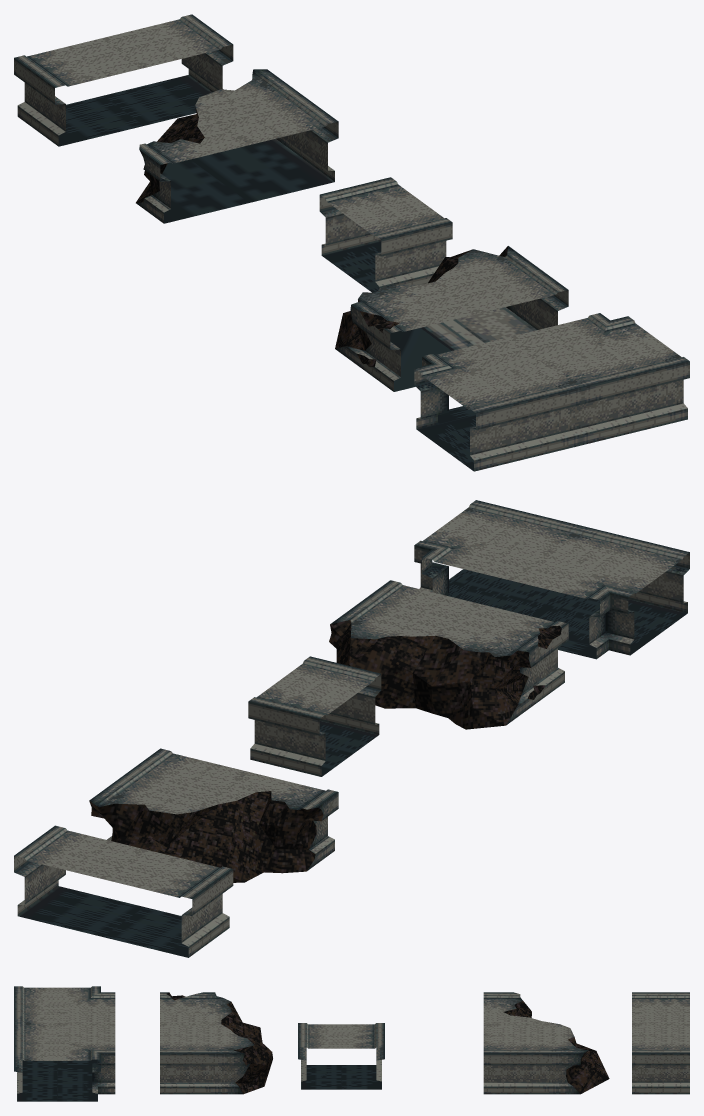
File: EnvMdrMD_Daiseidou_B_Hari_A_JointT_A.FBX
3 renders of one model, top to bottom at view 1: azimuth 30°, elevation 25°; view 2: azimuth 150°, elevation 25°; view 3: azimuth 270°, elevation 25°, orthographic. The views are drawn at different scales.
Parts seen in each view (by area): view 1: EnvMdrMD_Daiseidou_B_Hari_A_JointT_A, EnvMdrMD_Daiseidou_B_Hari_A_Loop_450W_Debris_B, EnvMdrMD_Daiseidou_B_Hari_A_Loop_450W_Debris_A, EnvMdrMD_Daiseidou_B_Hari_A_Loop_450W, EnvMdrMD_Daiseidou_B_Hari_A_Loop_200W; view 2: EnvMdrMD_Daiseidou_B_Hari_A_JointT_A, EnvMdrMD_Daiseidou_B_Hari_A_Loop_450W_Debris_A, EnvMdrMD_Daiseidou_B_Hari_A_Loop_450W_Debris_B, EnvMdrMD_Daiseidou_B_Hari_A_Loop_450W, EnvMdrMD_Daiseidou_B_Hari_A_Loop_200W; view 3: EnvMdrMD_Daiseidou_B_Hari_A_JointT_A, EnvMdrMD_Daiseidou_B_Hari_A_Loop_450W_Debris_A, EnvMdrMD_Daiseidou_B_Hari_A_Loop_450W_Debris_B, EnvMdrMD_Daiseidou_B_Hari_A_Loop_450W, EnvMdrMD_Daiseidou_B_Hari_A_Loop_200W.
Part boxes in pixels (left/top/right/bottom): EnvMdrMD_Daiseidou_B_Hari_A_JointT_A: left=414, top=313, right=689, bottom=471; EnvMdrMD_Daiseidou_B_Hari_A_Loop_450W_Debris_B: left=136, top=69, right=338, bottom=223; EnvMdrMD_Daiseidou_B_Hari_A_Loop_450W_Debris_A: left=335, top=246, right=568, bottom=391; EnvMdrMD_Daiseidou_B_Hari_A_Loop_450W: left=14, top=14, right=233, bottom=146; EnvMdrMD_Daiseidou_B_Hari_A_Loop_200W: left=319, top=177, right=452, bottom=292; EnvMdrMD_Daiseidou_B_Hari_A_JointT_A: left=414, top=500, right=689, bottom=659; EnvMdrMD_Daiseidou_B_Hari_A_Loop_450W_Debris_A: left=329, top=580, right=568, bottom=729; EnvMdrMD_Daiseidou_B_Hari_A_Loop_450W_Debris_B: left=89, top=748, right=338, bottom=882; EnvMdrMD_Daiseidou_B_Hari_A_Loop_450W: left=14, top=825, right=233, bottom=957; EnvMdrMD_Daiseidou_B_Hari_A_Loop_200W: left=248, top=656, right=381, bottom=776; EnvMdrMD_Daiseidou_B_Hari_A_JointT_A: left=14, top=986, right=115, bottom=1101; EnvMdrMD_Daiseidou_B_Hari_A_Loop_450W_Debris_A: left=160, top=992, right=272, bottom=1094; EnvMdrMD_Daiseidou_B_Hari_A_Loop_450W_Debris_B: left=483, top=992, right=609, bottom=1094; EnvMdrMD_Daiseidou_B_Hari_A_Loop_450W: left=632, top=992, right=689, bottom=1094; EnvMdrMD_Daiseidou_B_Hari_A_Loop_200W: left=298, top=1023, right=384, bottom=1089.
Size of the model in its own units: 600 by 160 by 2332.
